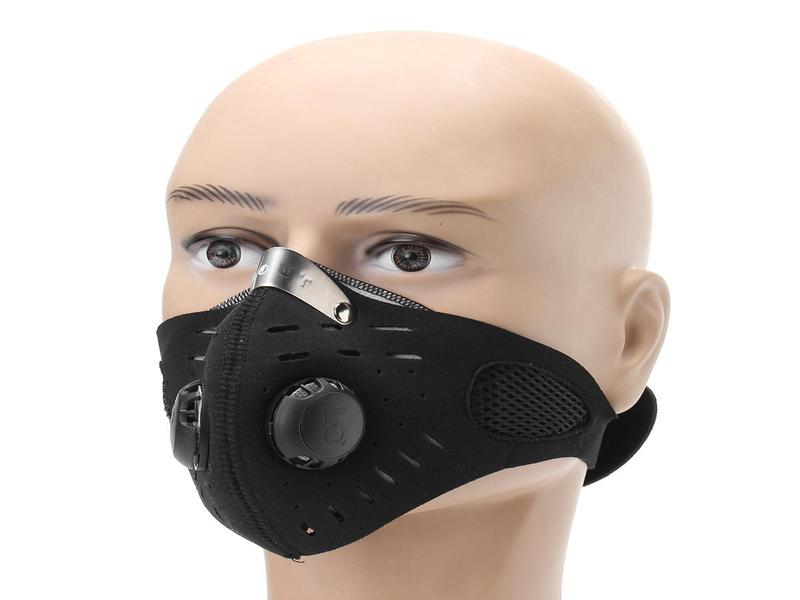with_mask: (149, 34, 674, 562)
